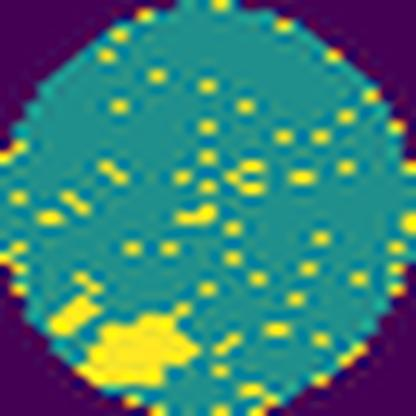Loc: (74, 299, 208, 391), (53, 271, 108, 333)
